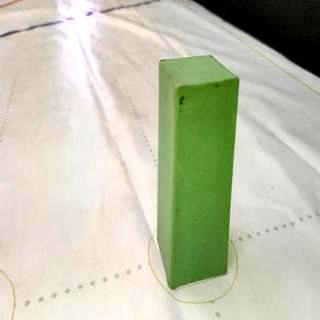greenbox: (158, 54, 240, 290)
